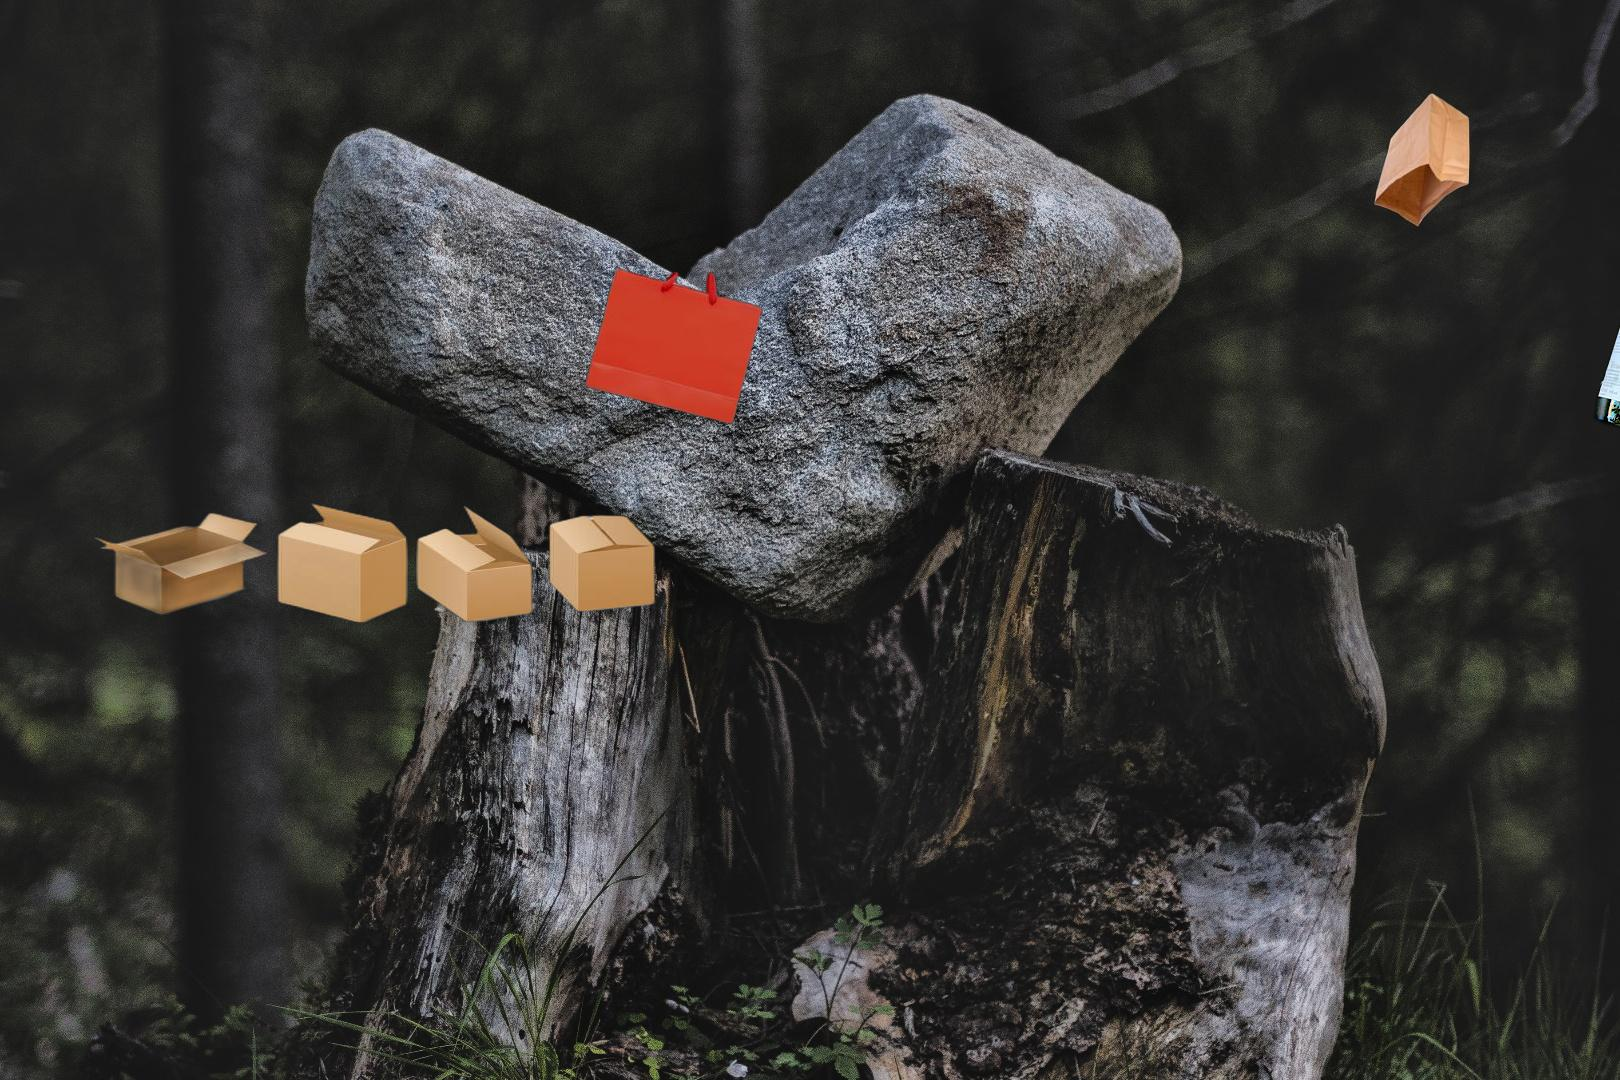glass: (1591, 39, 1620, 446)
paper-bag: (509, 266, 765, 534), (1370, 90, 1473, 230)
trashbox-cardboard: (83, 375, 668, 787)
